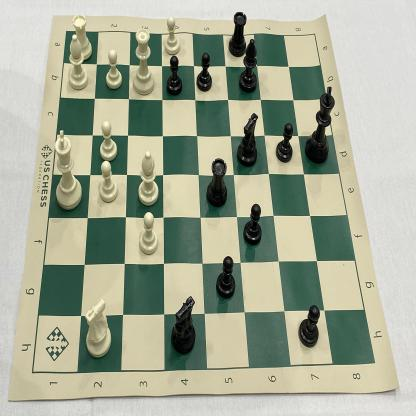black-bishop: (239, 35, 260, 94)
black-king: (303, 81, 337, 168)
black-knight: (170, 289, 199, 357), (235, 107, 262, 171)
black-pawn: (214, 252, 240, 304), (297, 298, 322, 349), (241, 196, 264, 249), (272, 117, 296, 166), (193, 51, 216, 95), (163, 53, 184, 97)
black-rook: (202, 149, 232, 214), (225, 5, 251, 60)
white-bishop: (134, 146, 162, 210), (66, 29, 92, 96)
white-king: (47, 127, 86, 213)
white-knight: (80, 294, 116, 362)
white-pawn: (135, 207, 162, 258), (96, 158, 120, 207), (160, 12, 184, 58), (103, 45, 126, 93), (97, 116, 118, 163)
white-queen: (131, 23, 158, 98)
white-rook: (69, 10, 96, 63)
